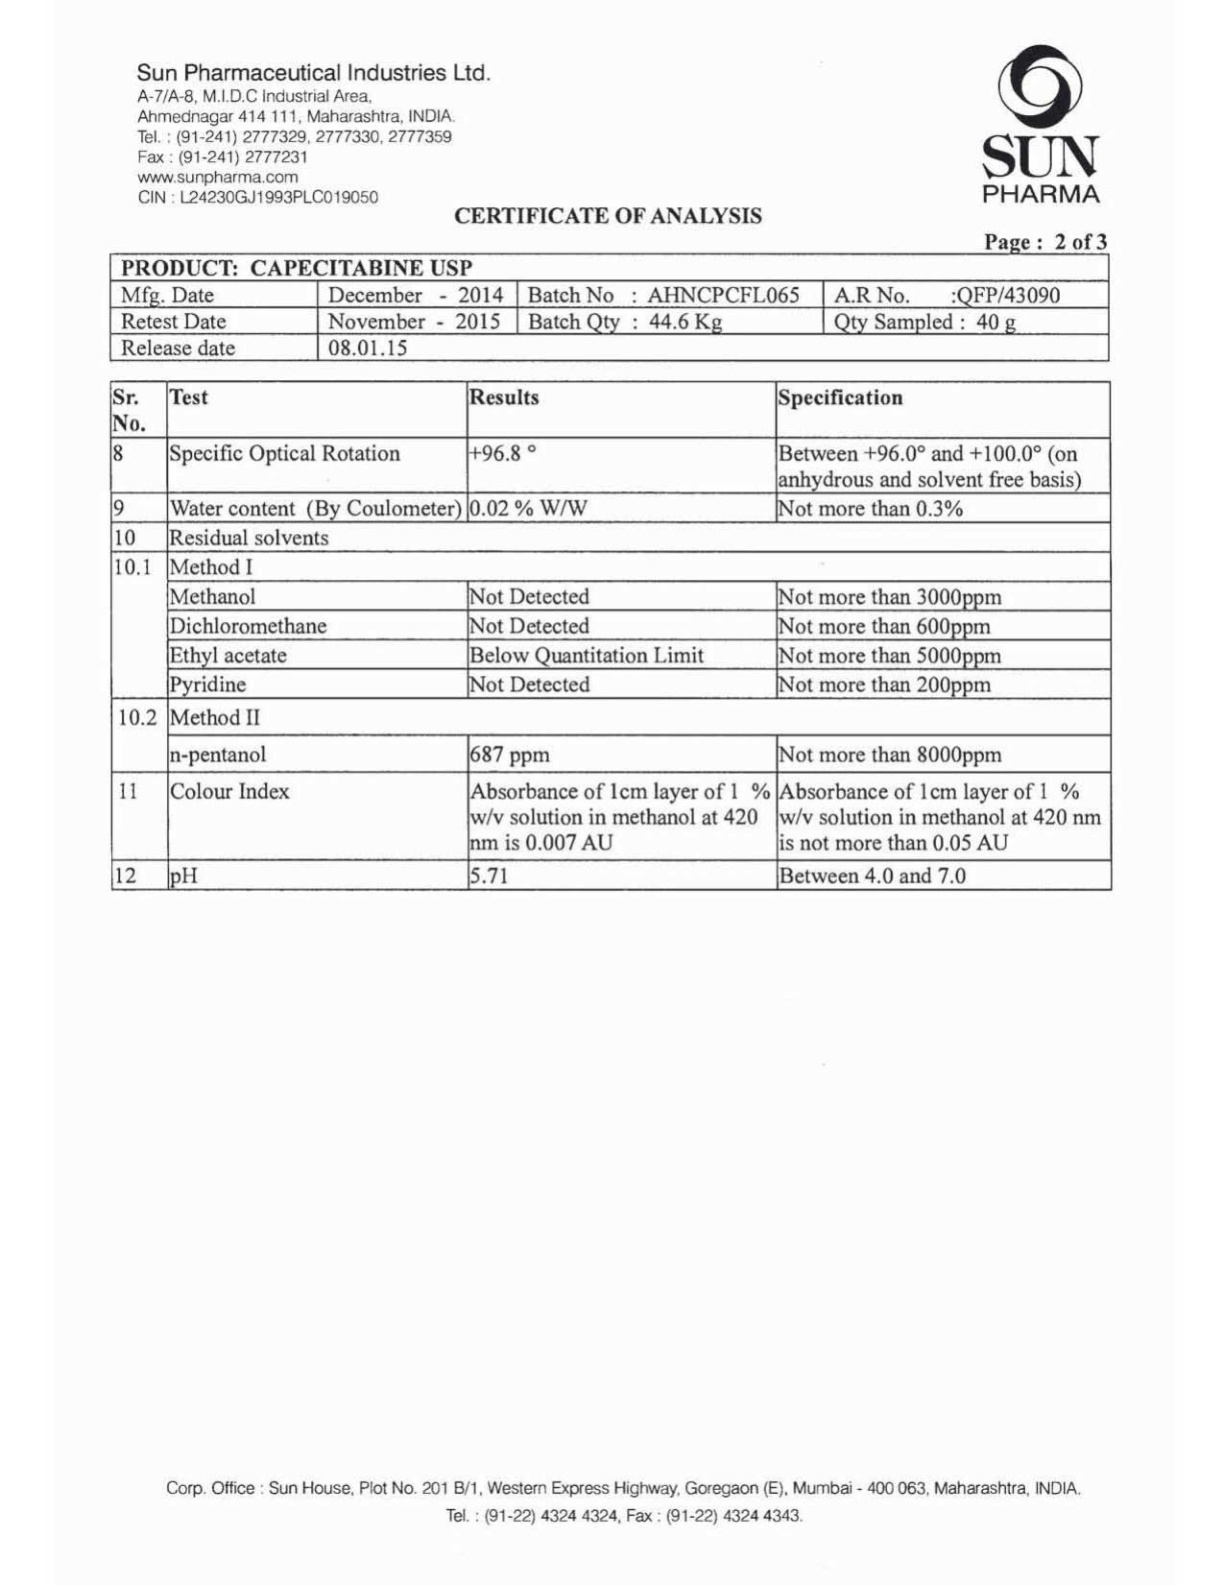merged_cells: (109, 379, 1113, 892), (108, 252, 1111, 363)
